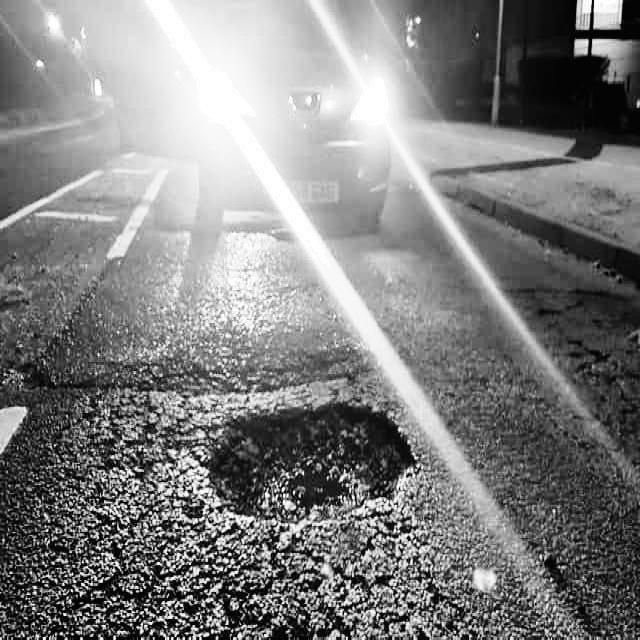Pothole: (209, 386, 417, 541)
